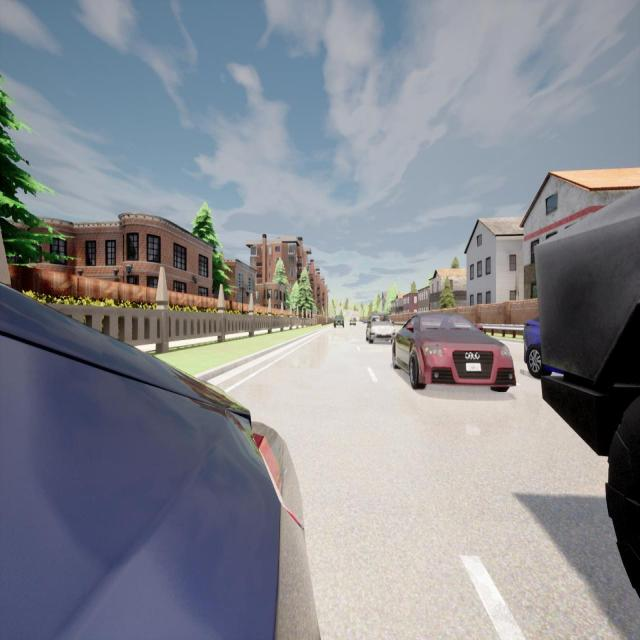Vehicle: (0, 282, 322, 640), (530, 188, 640, 596), (392, 314, 517, 391), (524, 316, 562, 376), (366, 312, 396, 346), (333, 315, 345, 329), (349, 318, 356, 327)
